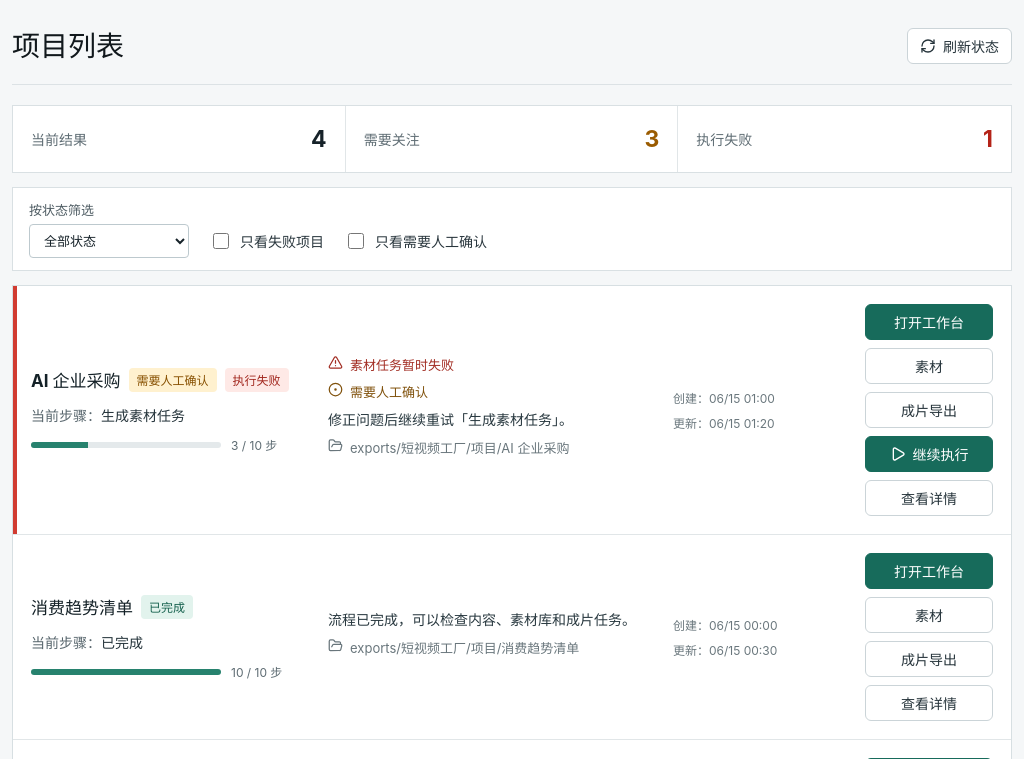
Test: 项目列表页面 › 点击项目可以查看步骤详情
Click the button with aria-label "查看 AI 企业采购" at (76, 380), box [31, 367, 120, 392]
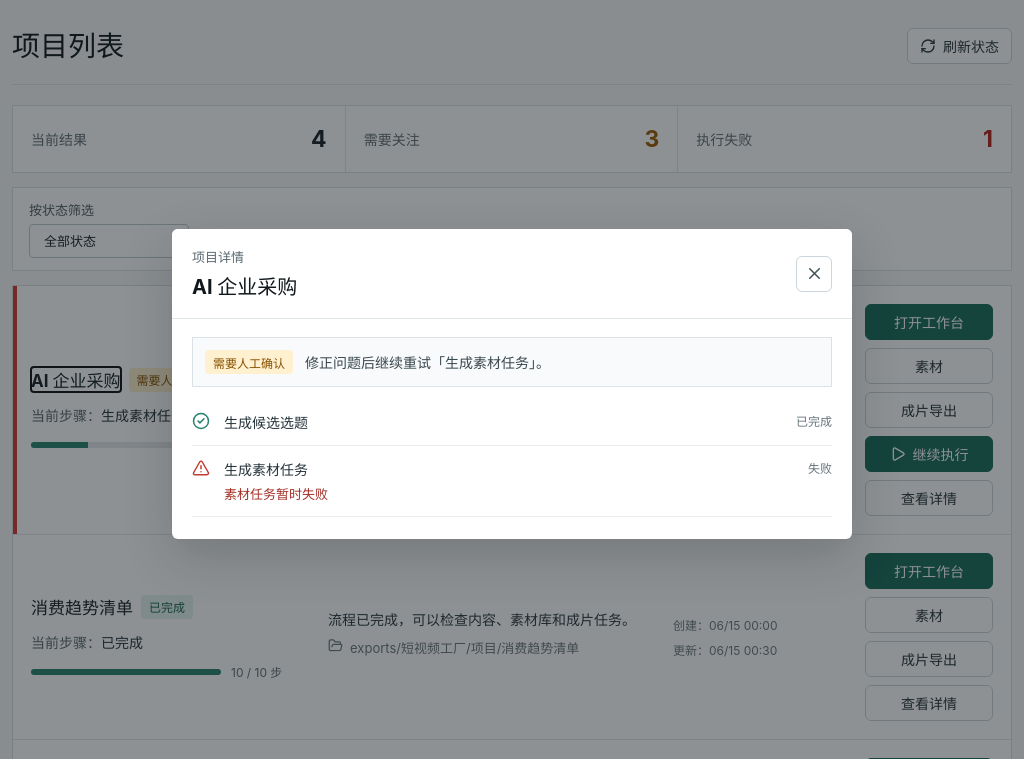
Expected: the text "素材任务暂时失败" is shown, [328, 355, 454, 373]
Now the dialog is shown, box [172, 229, 852, 539]
Now the text "生成候选选题" is shown, box [224, 414, 308, 431]
